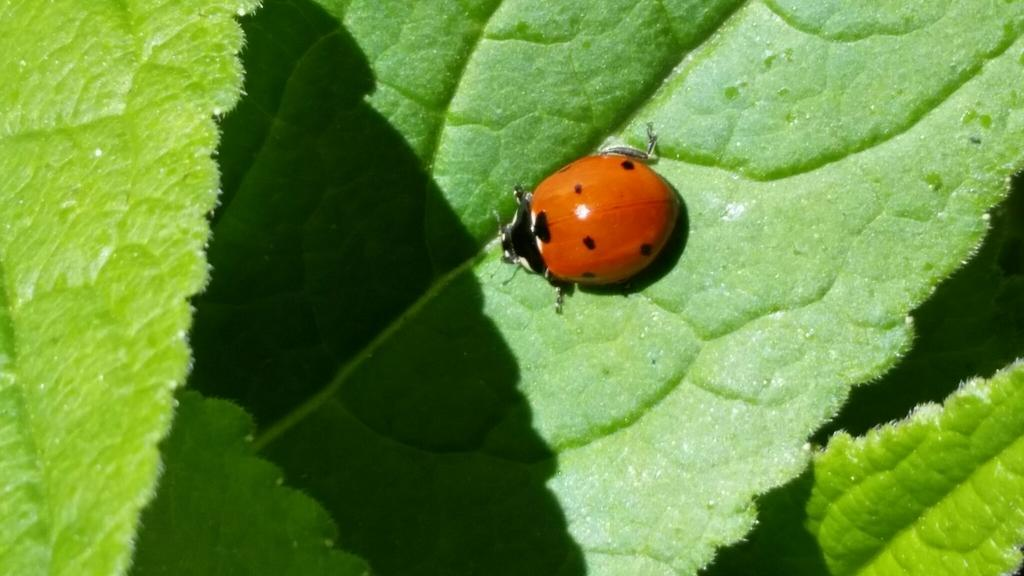ladybug: (494, 124, 689, 319)
